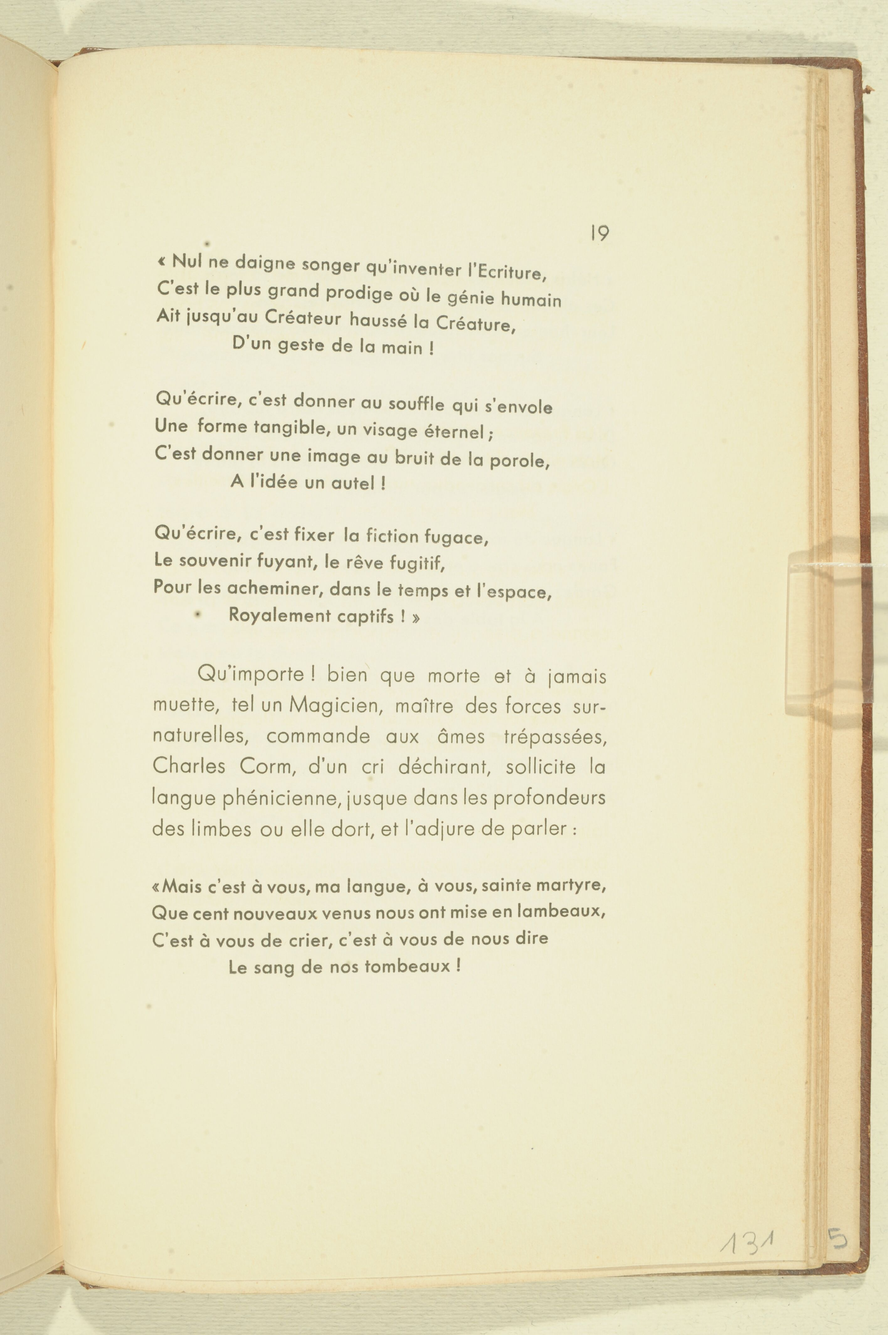LigneDeProse: (126, 782, 635, 813), (192, 649, 612, 685), (140, 688, 648, 716), (128, 815, 597, 845), (114, 721, 618, 746), (112, 753, 626, 777)
N°Page: (578, 200, 633, 254)
Vers: (111, 375, 579, 410), (151, 899, 627, 930), (152, 872, 659, 898), (136, 439, 583, 465), (139, 519, 522, 549), (136, 577, 570, 603), (114, 410, 513, 438), (154, 243, 562, 269), (143, 306, 555, 329), (147, 276, 558, 299), (148, 930, 567, 952), (188, 329, 466, 361), (175, 605, 457, 636), (188, 955, 523, 980), (147, 548, 452, 571), (209, 471, 407, 493)
